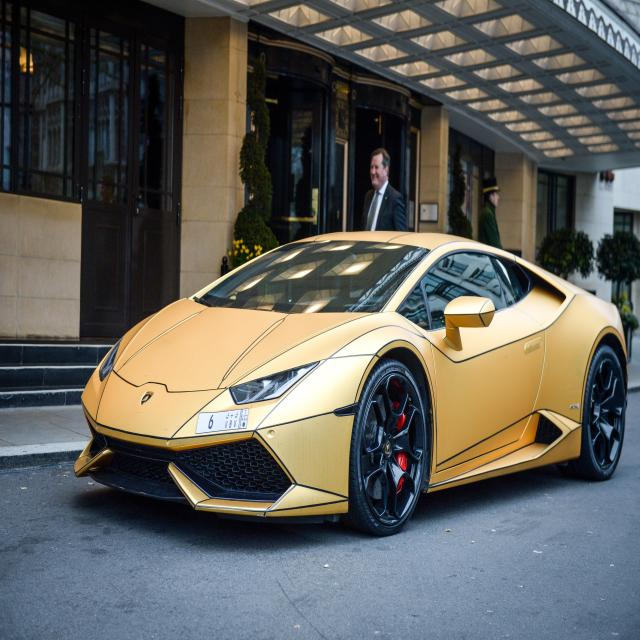license_plate: (221, 406, 248, 432)
